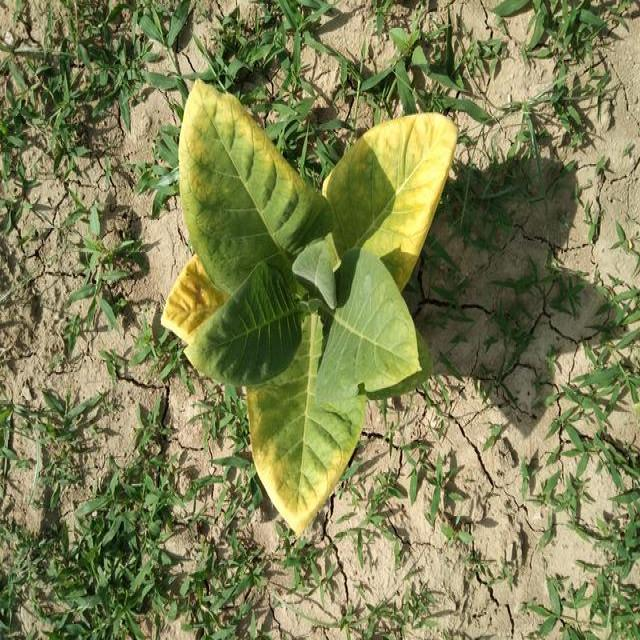crop: (169, 76, 461, 534)
